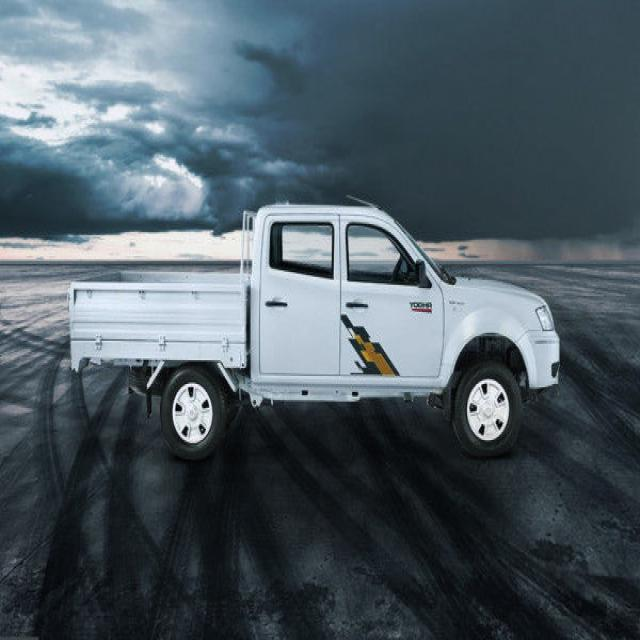light_vehicle: (53, 197, 571, 468)
